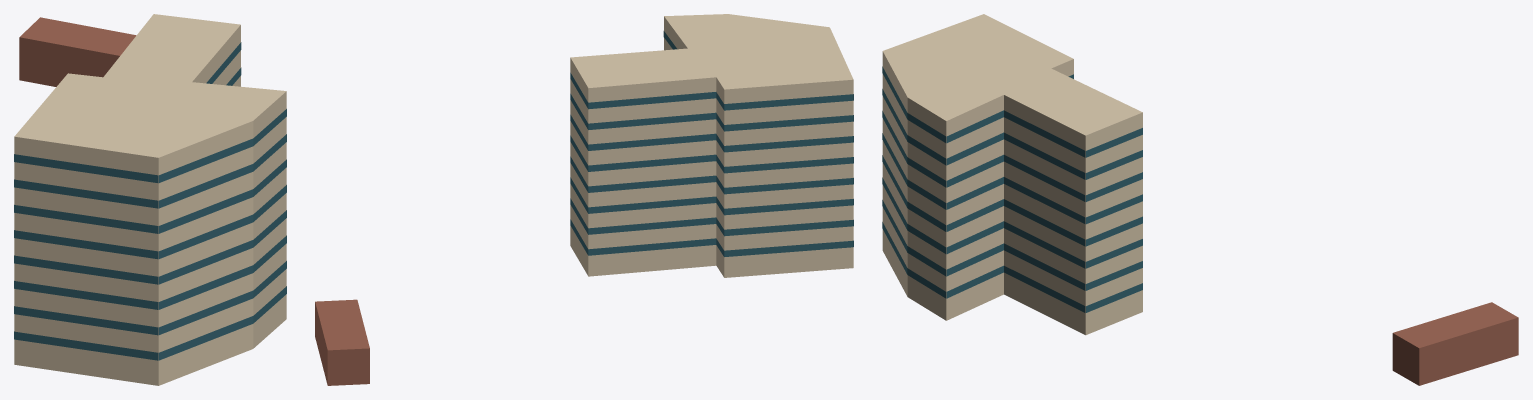
File: city_-1_-2.glb
3 views of the same model, side by side, from view 1: azimuth 30°, elevation 25°; view 2: azimuth 150°, elevation 25°; view 3: azimuth 270°, elevation 25° (orthographic). The views are drawn at different scales.
Visible parts, largest first — view 1: city_-1_-2; view 2: city_-1_-2; view 3: city_-1_-2.
Boxes of the visible parts, x1=… form: city_-1_-2: x1=14, y1=14, x2=286, y2=385; city_-1_-2: x1=315, y1=14, x2=853, y2=385; city_-1_-2: x1=882, y1=14, x2=1518, y2=385.
Bounding box in the file's own units: 66.63 × 36 × 104.
